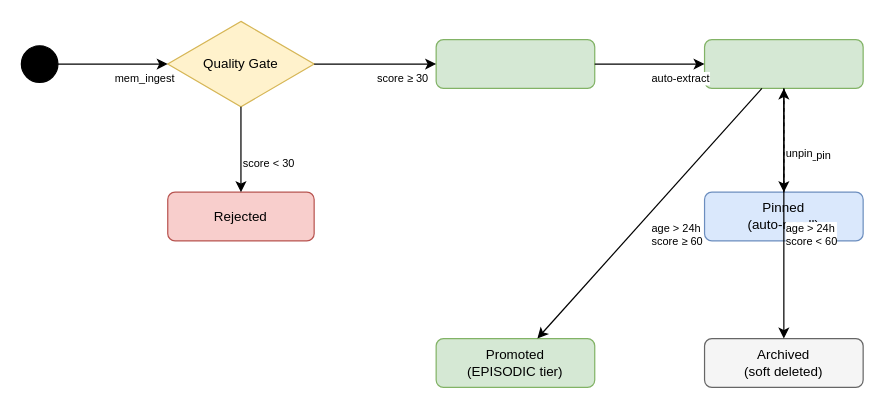
The diagram is 885 pixels wide and 409 high, and some of its shapes have lost their labels. The centre of each missing label's shape, as x and y in pixels:
Enriched (map extracted): the point at 783,63
Ingested (WORKING tier): the point at 515,63
